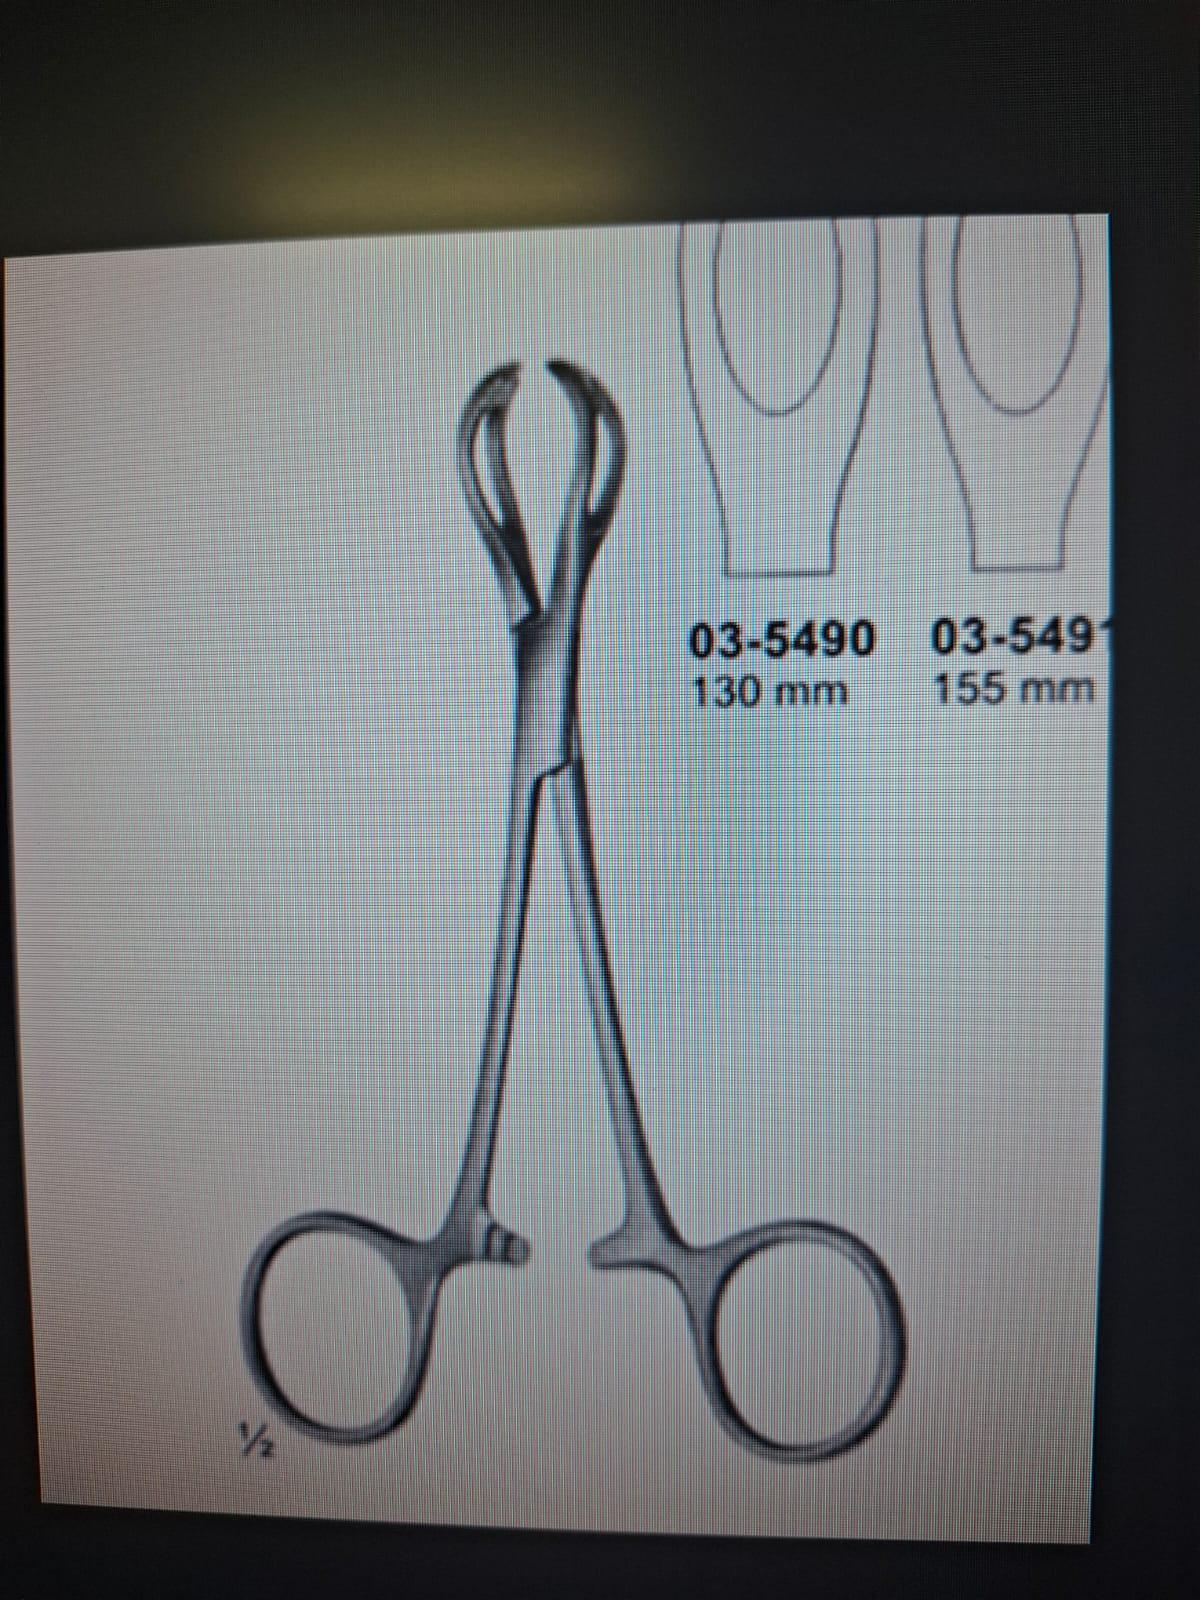Lane Tissue Forceps: (245, 358, 905, 1475)
